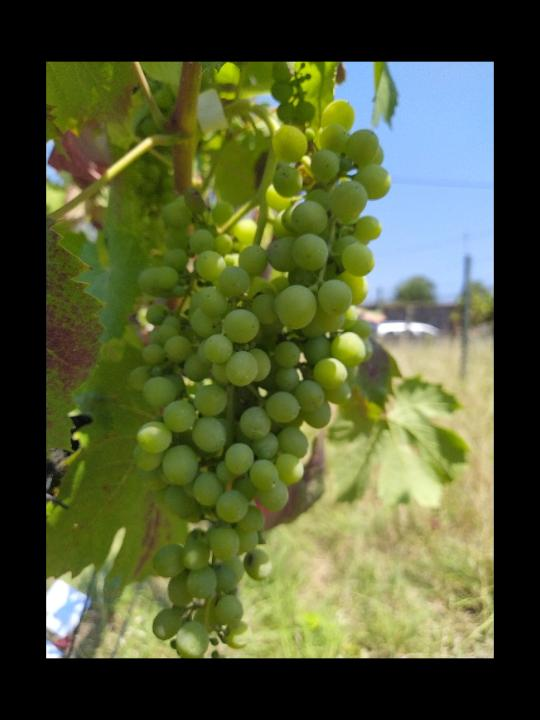grape: (125, 67, 390, 655)
